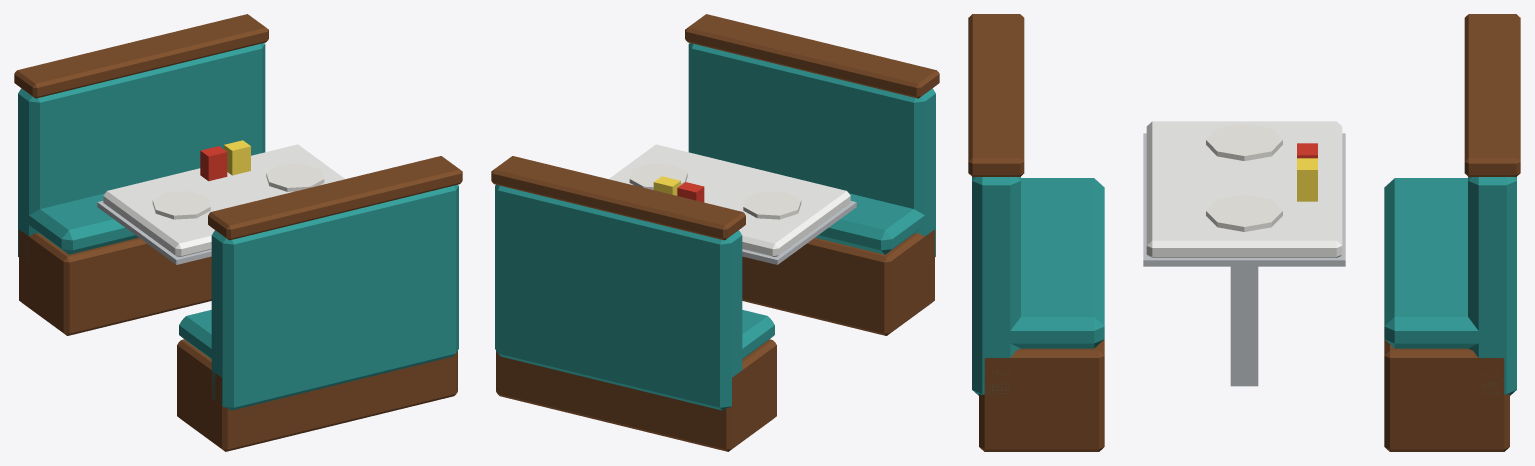
The model's file is TealBooth.fbx.
The picture shows the model from 3 angles, left to right: view 1: azimuth 30°, elevation 25°; view 2: azimuth 150°, elevation 25°; view 3: azimuth 270°, elevation 25°; orthographic projection. The views are drawn at different scales.
Parts seen in each view (by area): view 1: TealBooth; view 2: TealBooth; view 3: TealBooth.
Boxes of the visible parts, x1=… form: TealBooth: x1=14, y1=14, x2=462, y2=451; TealBooth: x1=491, y1=14, x2=939, y2=451; TealBooth: x1=968, y1=14, x2=1520, y2=451.
Bounding box in the file's own units: 5 × 4.65 × 7.9.
Materials: 1 (1 with a texture image).
